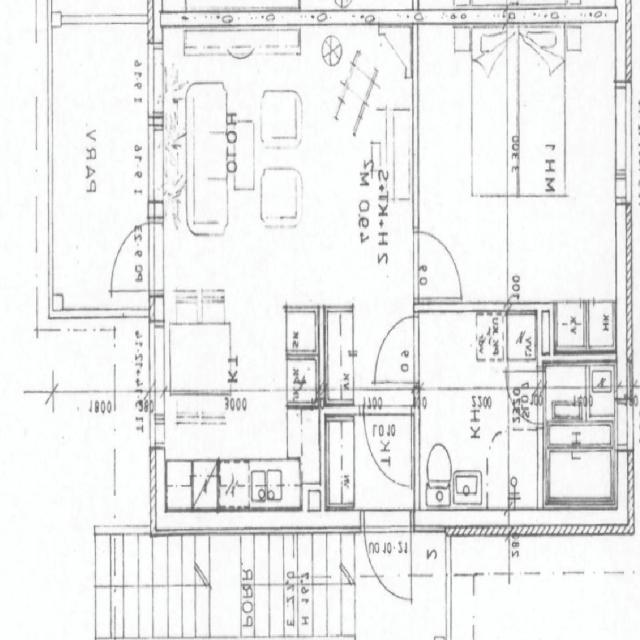door: (360, 509, 410, 613), (102, 222, 164, 293), (364, 404, 412, 490), (369, 317, 420, 383), (412, 232, 463, 298), (502, 371, 546, 425)
